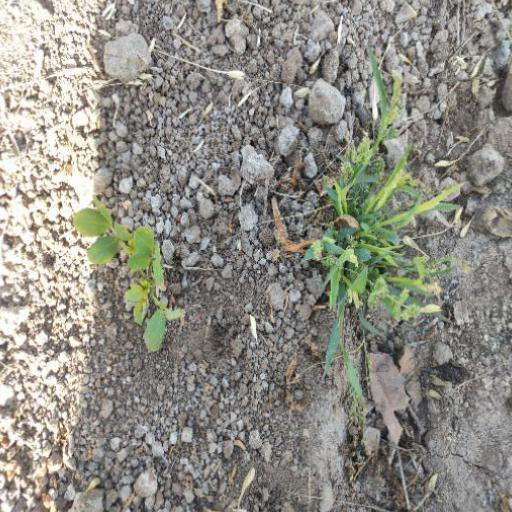weed: (286, 75, 455, 331), (75, 205, 194, 371)
